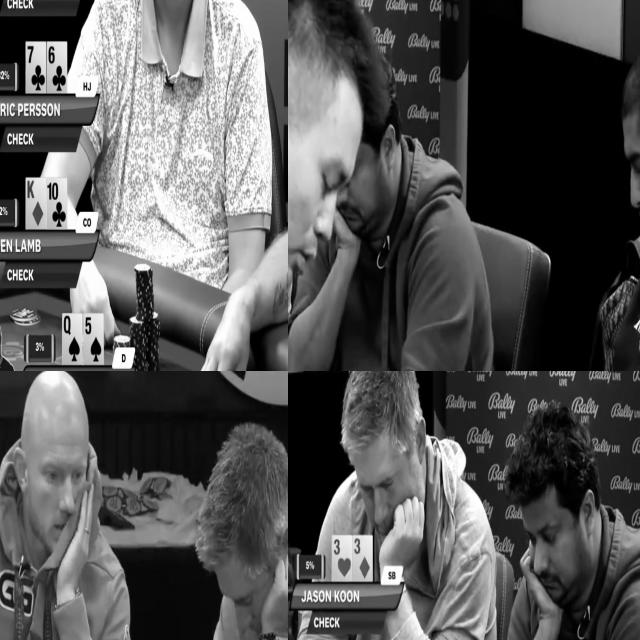3D: (352, 536, 373, 580)
3H: (332, 536, 352, 581)
5S: (85, 315, 102, 364)
6C: (48, 42, 67, 92)
7C: (27, 43, 45, 93)
KD: (27, 178, 46, 229)
QS: (63, 315, 81, 365)
